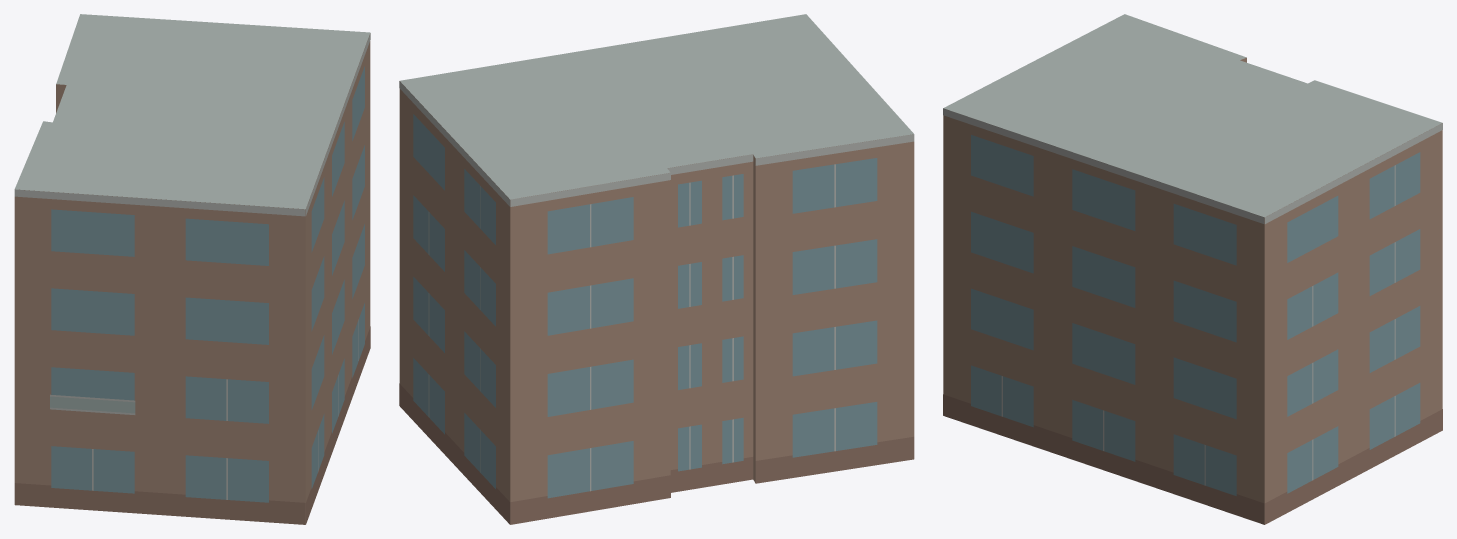
The model's file is survey-upis-32683827.glb.
3 renders of one model, left to right at view 1: azimuth 30°, elevation 25°; view 2: azimuth 150°, elevation 25°; view 3: azimuth 270°, elevation 25°, orthographic. The views are drawn at different scales.
Parts seen in each view (by area): view 1: survey-upis-32683827.tmp; view 2: survey-upis-32683827.tmp; view 3: survey-upis-32683827.tmp.
Boxes of the visible parts, x1,y1,x2,y2 form: survey-upis-32683827.tmp: (14,14,370,524); survey-upis-32683827.tmp: (399,14,914,524); survey-upis-32683827.tmp: (943,14,1442,524).
Size of the model in its own units: 15.19 by 10.7 by 15.77.
